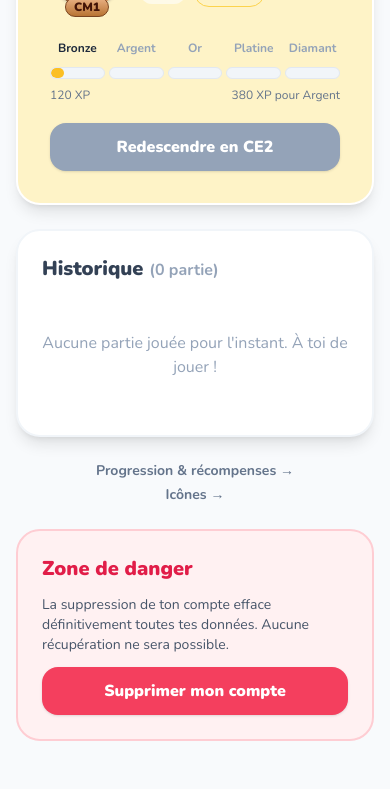
ProfilePage danger zone › closes the modal on cancel without deleting
The width and height of the screenshot is (390, 789).
(page scrolled)
Click the button "Supprimer mon compte" at (195, 691), box left=42, top=667, right=348, bottom=715
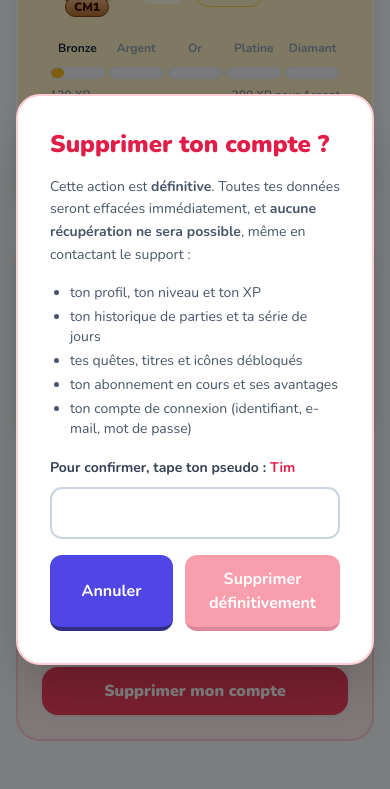
Click the button "Annuler" at (112, 592), box left=50, top=554, right=173, bottom=630
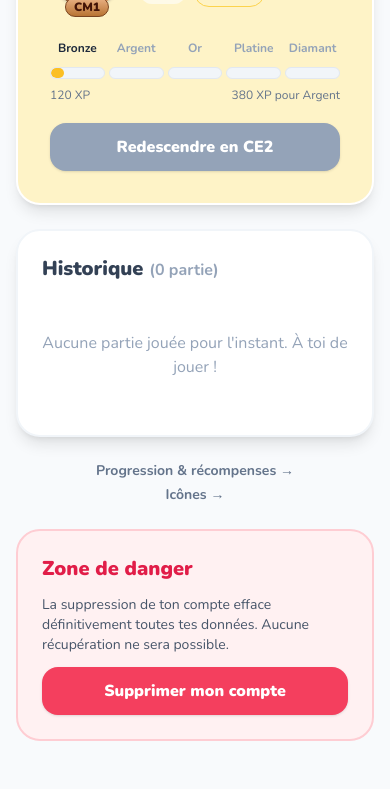
Result: the dialog is gone
